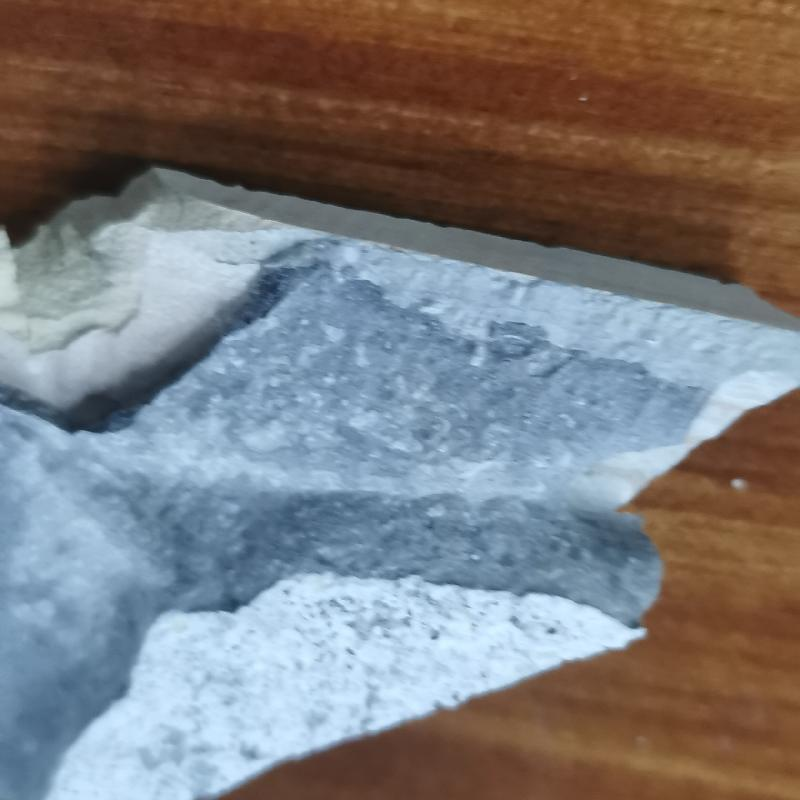tile: (3, 164, 794, 783)
